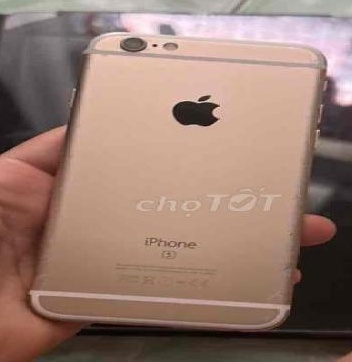scratch: (253, 141, 327, 340), (15, 209, 77, 319), (266, 38, 352, 77)
